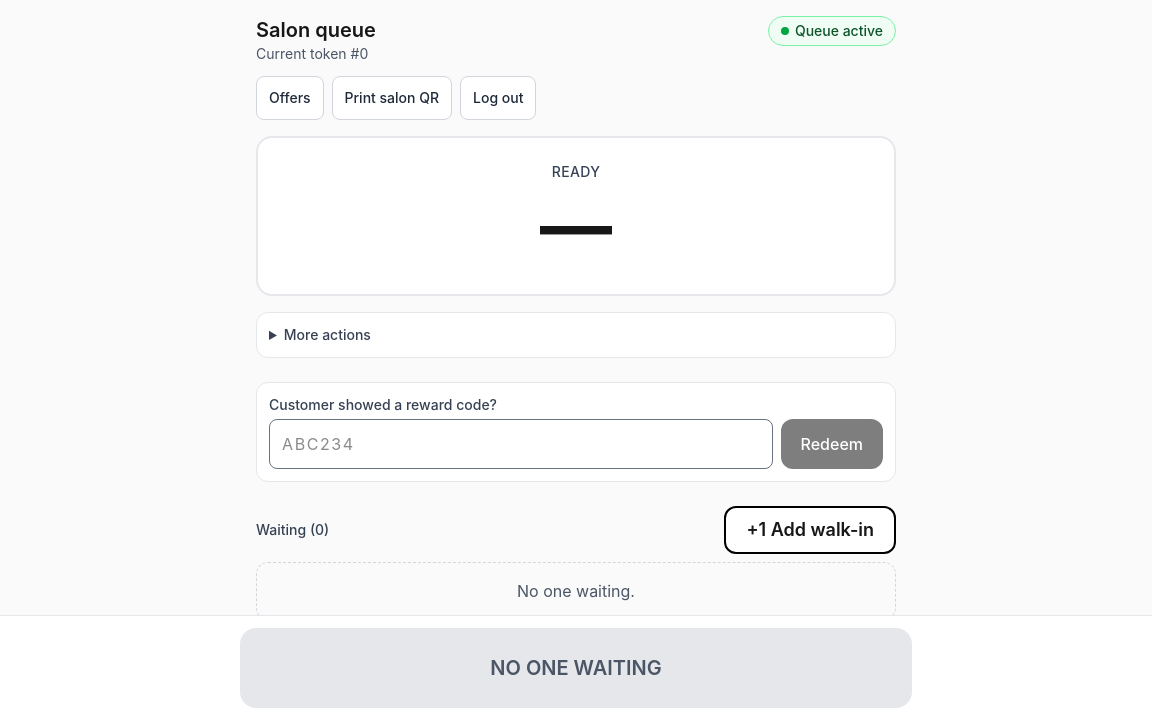
BarberDashboard: redeem a reward code › keeps Redeem disabled until the code is 6 characters
Expected: the button "Redeem" is disabled, x1=780 y1=419 x2=883 y2=469
Type "abc23" into the field labelled "Customer showed a reward code?".
click(521, 444); type("abc23")  # box x1=269 y1=419 x2=772 y2=469
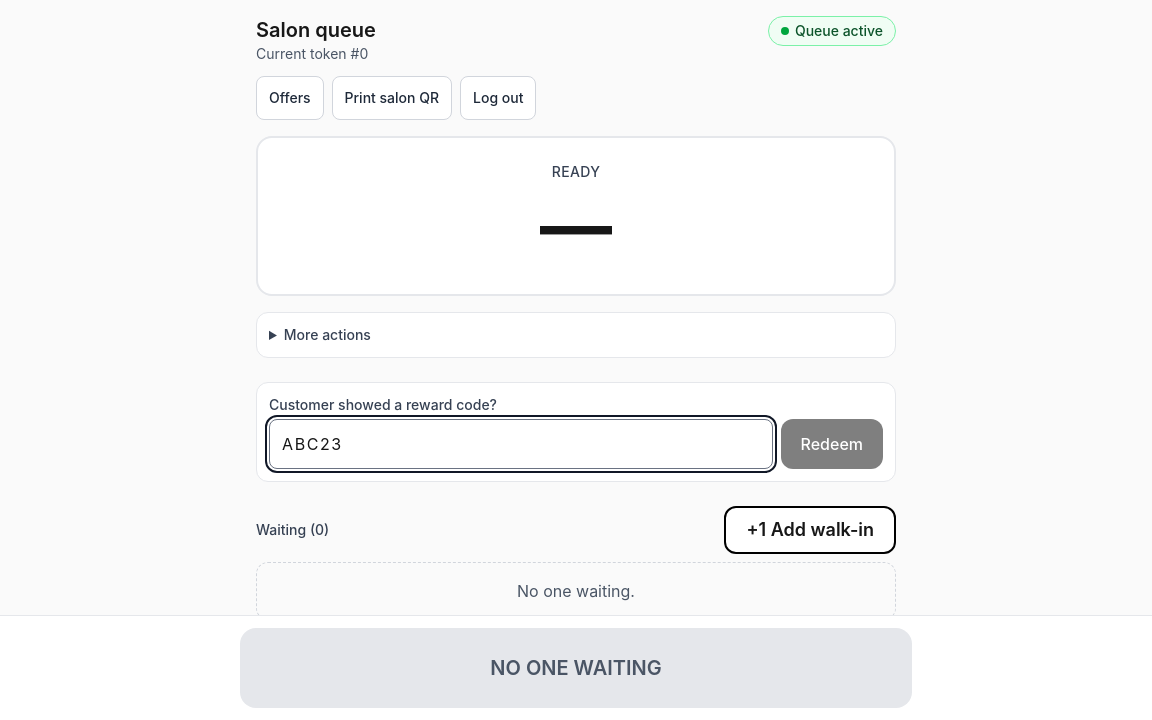
Expected: the button "Redeem" is disabled, x1=780 y1=419 x2=883 y2=469
Type "4" into the field labelled "Customer showed a reward code?".
click(521, 444); type("4")  # box x1=269 y1=419 x2=772 y2=469
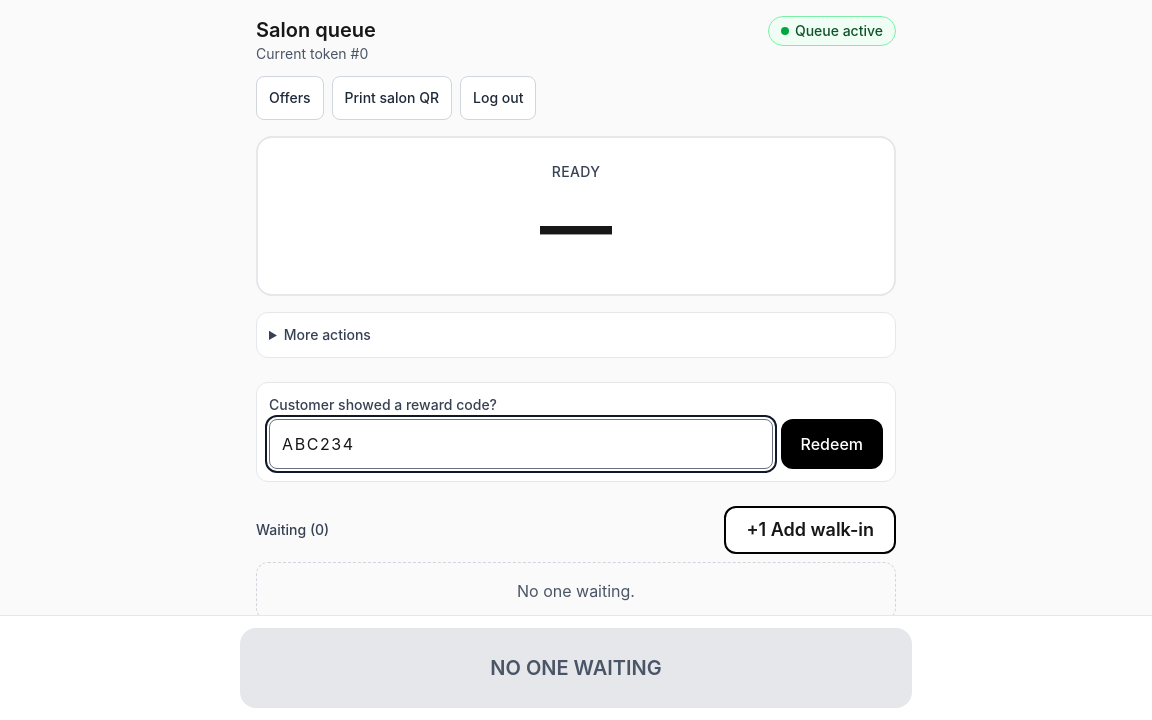
Now the button "Redeem" is enabled, box x1=780 y1=419 x2=883 y2=469
